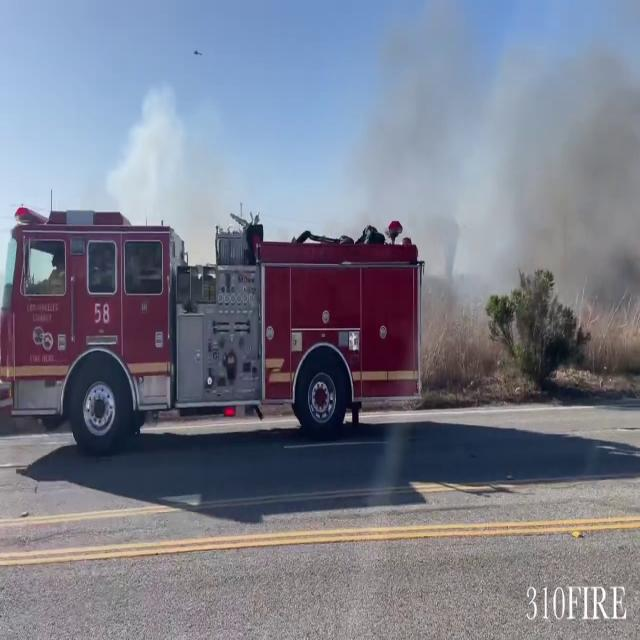Smoke: (488, 12, 640, 339)
